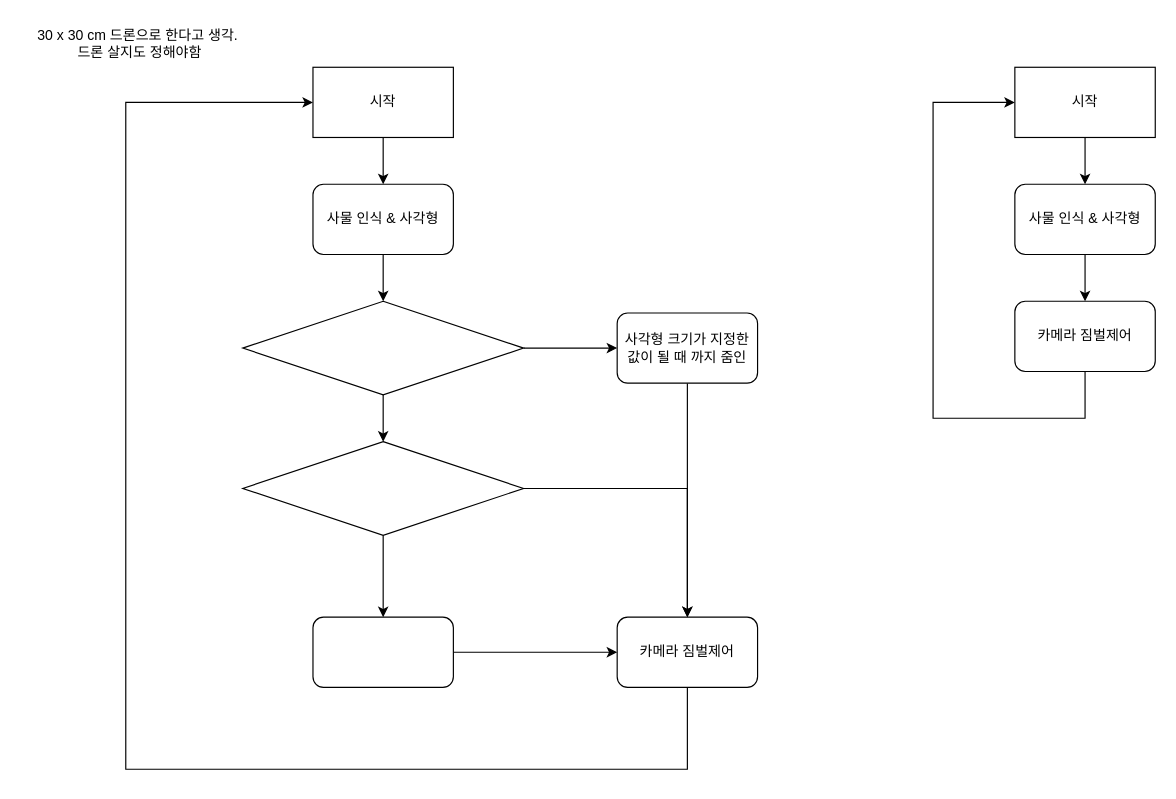
Some shapes in this 1176 by 799 pixel diagram are drawn without their labels. The centre of each missing label's shape, as x and y in pixels:
"사각형 크기가 지정한 값이 될 때 까지 줌아웃" goes at [382,651].
"사각형의 크기가 지정한 값보다 큰가?" goes at [383,347].
"줌 아웃 할 수 있는가?" goes at [383,488].
